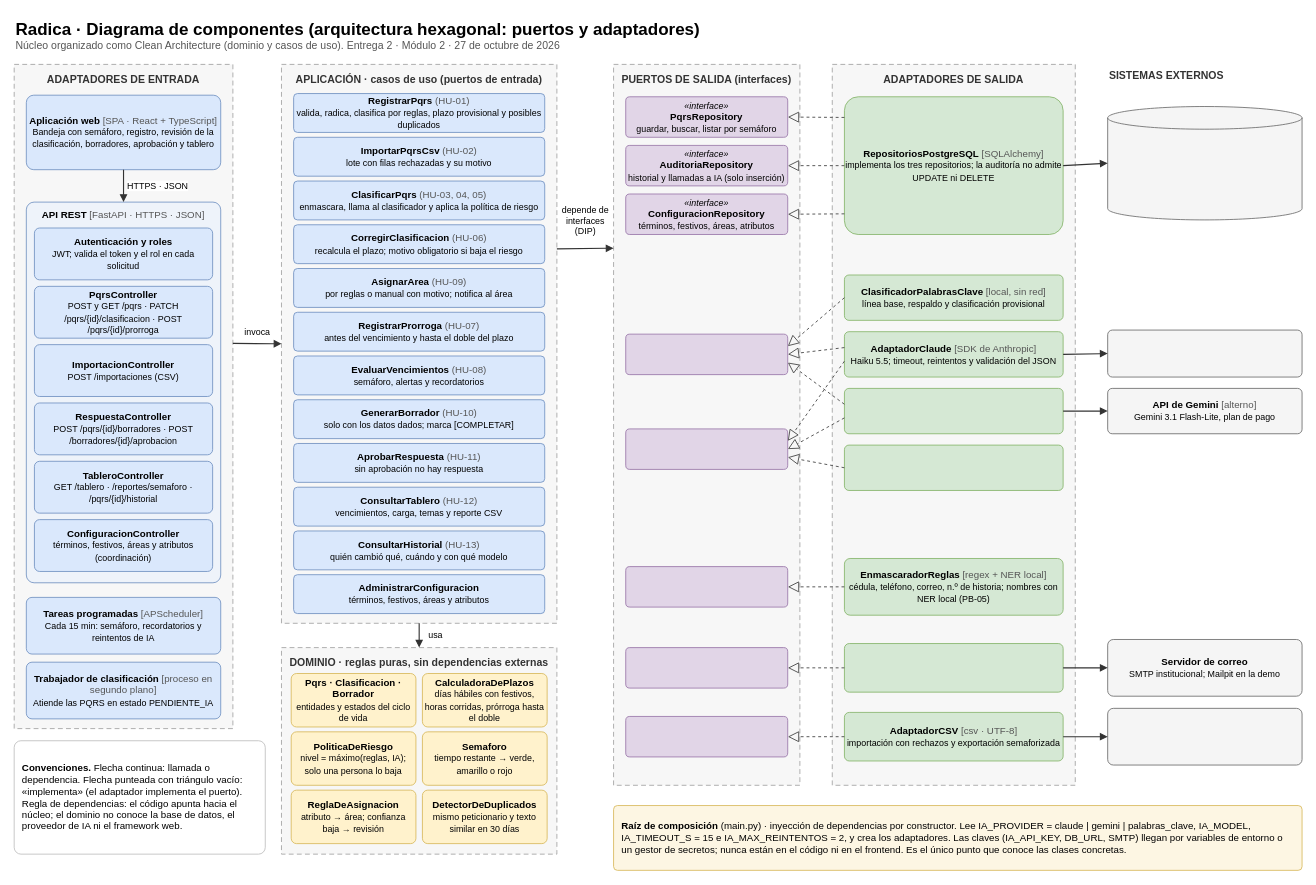
This 1316x885 diagram has some shape labels left out. Each missing label, with the centre of its shape:
"AdaptadorGemini [SDK de Google] alterno; mismo contrato" belongs at (x=953, y=411).
"API de Anthropic [externo] Claude Haiku 5.5" belongs at (x=1204, y=353).
"Archivos CSV UTF-8 reporte del software de aseguramiento y reporte semaforizado" belongs at (x=1204, y=736).
"NotificadorSMTP [smtplib] correo a áreas y coordinación" belongs at (x=953, y=667).
"PostgreSQL 16 PQRS, configuración e historial; cifrado en reposo" belongs at (x=1204, y=163).
"RedactorPlantillas [local] plantilla por tipo si la IA no está disponible" belongs at (x=953, y=467).
"«interface» ArchivoTabular leer y escribir CSV" belongs at (x=706, y=736).
"«interface» ClasificadorPqrs clasificar(solicitud) → resultado" belongs at (x=706, y=354).
"«interface» Enmascarador enmascarar(texto) → texto y verificación" belongs at (x=706, y=586).
"«interface» Notificador enviar(notificación)" belongs at (x=706, y=667).
"«interface» RedactorRespuesta redactar(solicitud) → borrador" belongs at (x=706, y=448).
